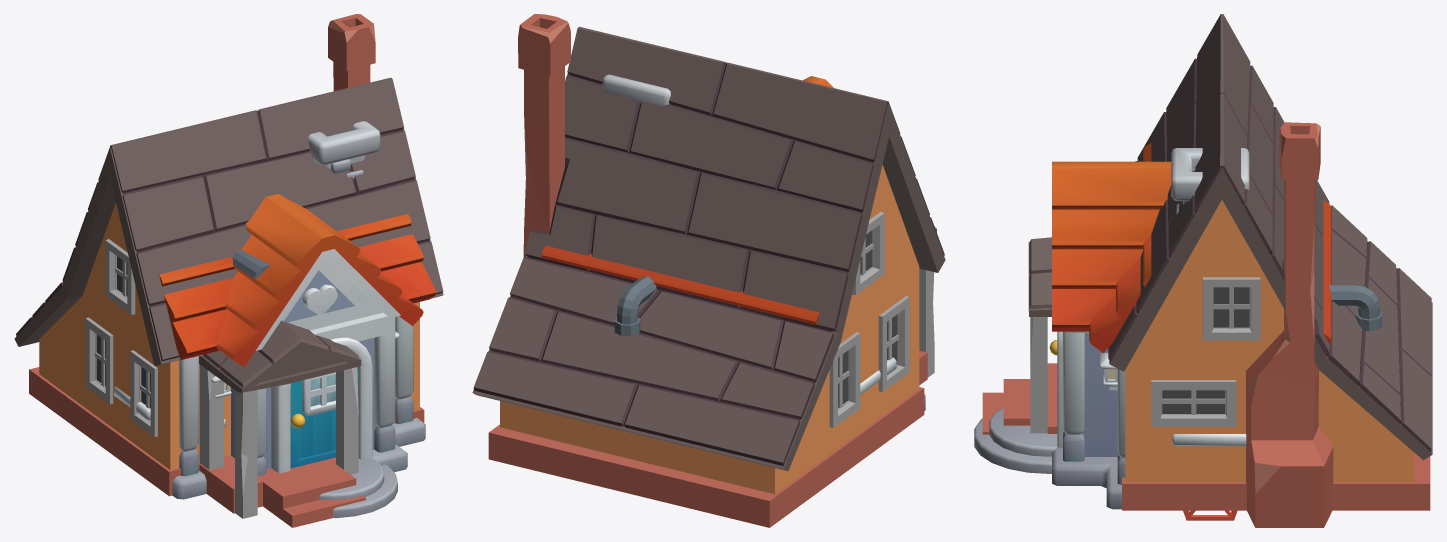
The model's file is farm-kit-core-E-Jn-bzA.glb.
The picture shows the model from 3 angles, left to right: view 1: azimuth 30°, elevation 25°; view 2: azimuth 150°, elevation 25°; view 3: azimuth 270°, elevation 25°; orthographic projection. The views are drawn at different scales.
Parts seen in each view (by area): view 1: House_4.001, house, house_door, house_chimney, house_heart, Harvester; view 2: House_4.001, house, Harvester, house_chimney; view 3: House_4.001, house, house_chimney, Harvester.
Part boxes in pixels (x1,y1,x2,y2): House_4.001: (14,14,443,527); house: (114,194,435,518); house_door: (290,367,358,468); house_chimney: (308,121,380,179); house_heart: (302,284,337,314); Harvester: (232,250,270,279); House_4.001: (472,14,945,527); house: (541,76,925,410); Harvester: (614,276,656,336); house_chimney: (602,74,670,106); House_4.001: (982,14,1432,527); house: (974,143,1331,509); house_chimney: (1171,148,1249,214); Harvester: (1328,285,1382,331).
Size of the model in its own units: 7.66 by 9.11 by 9.05.
Materials: 41 (2 with a texture image).
